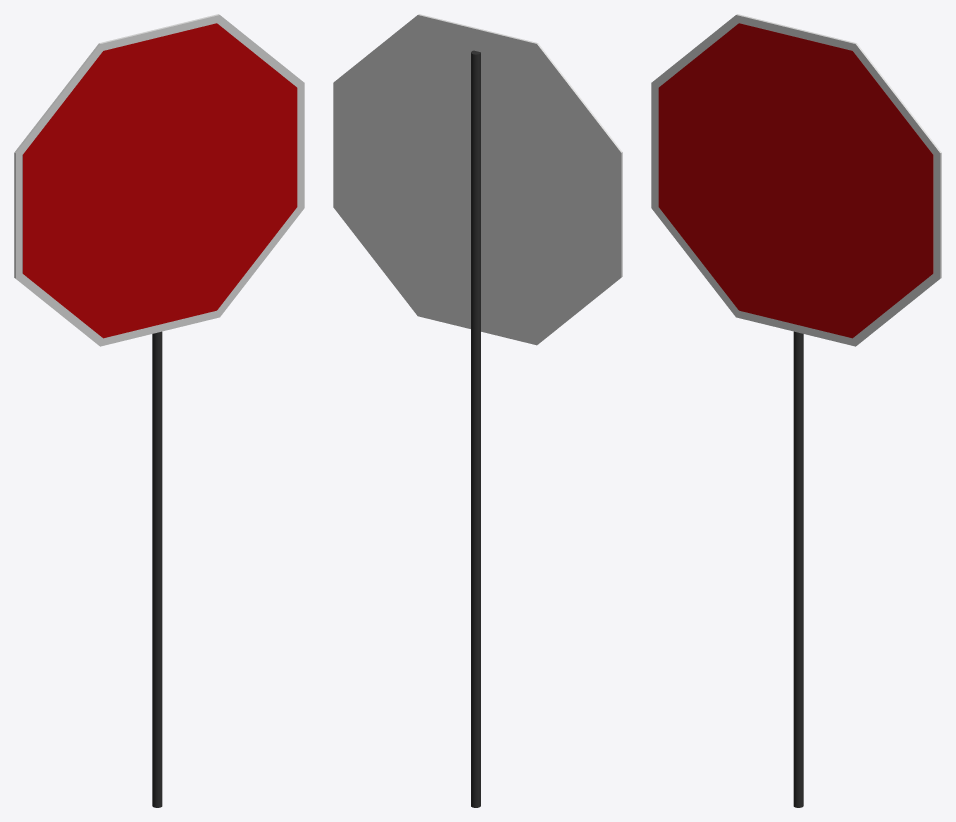
File: stop_sign.dae
3 views of the same model, side by side, from view 1: azimuth 30°, elevation 25°; view 2: azimuth 150°, elevation 25°; view 3: azimuth 330°, elevation 25° (orthographic).
Parts seen in each view (by area): view 1: Plane, Plane.001, Cylinder; view 2: Plane.001, Cylinder; view 3: Plane, Plane.001, Cylinder.
Boxes of the visible parts, bbox=[...] form: Plane: bbox=[22, 23, 297, 338]; Plane.001: bbox=[14, 14, 304, 346]; Cylinder: bbox=[152, 331, 162, 807]; Plane.001: bbox=[333, 14, 622, 345]; Cylinder: bbox=[471, 50, 480, 807]; Plane: bbox=[658, 23, 933, 338]; Plane.001: bbox=[651, 14, 941, 346]; Cylinder: bbox=[793, 331, 803, 807].
Size of the model in its own units: 2 by 0.063 by 5.15.
